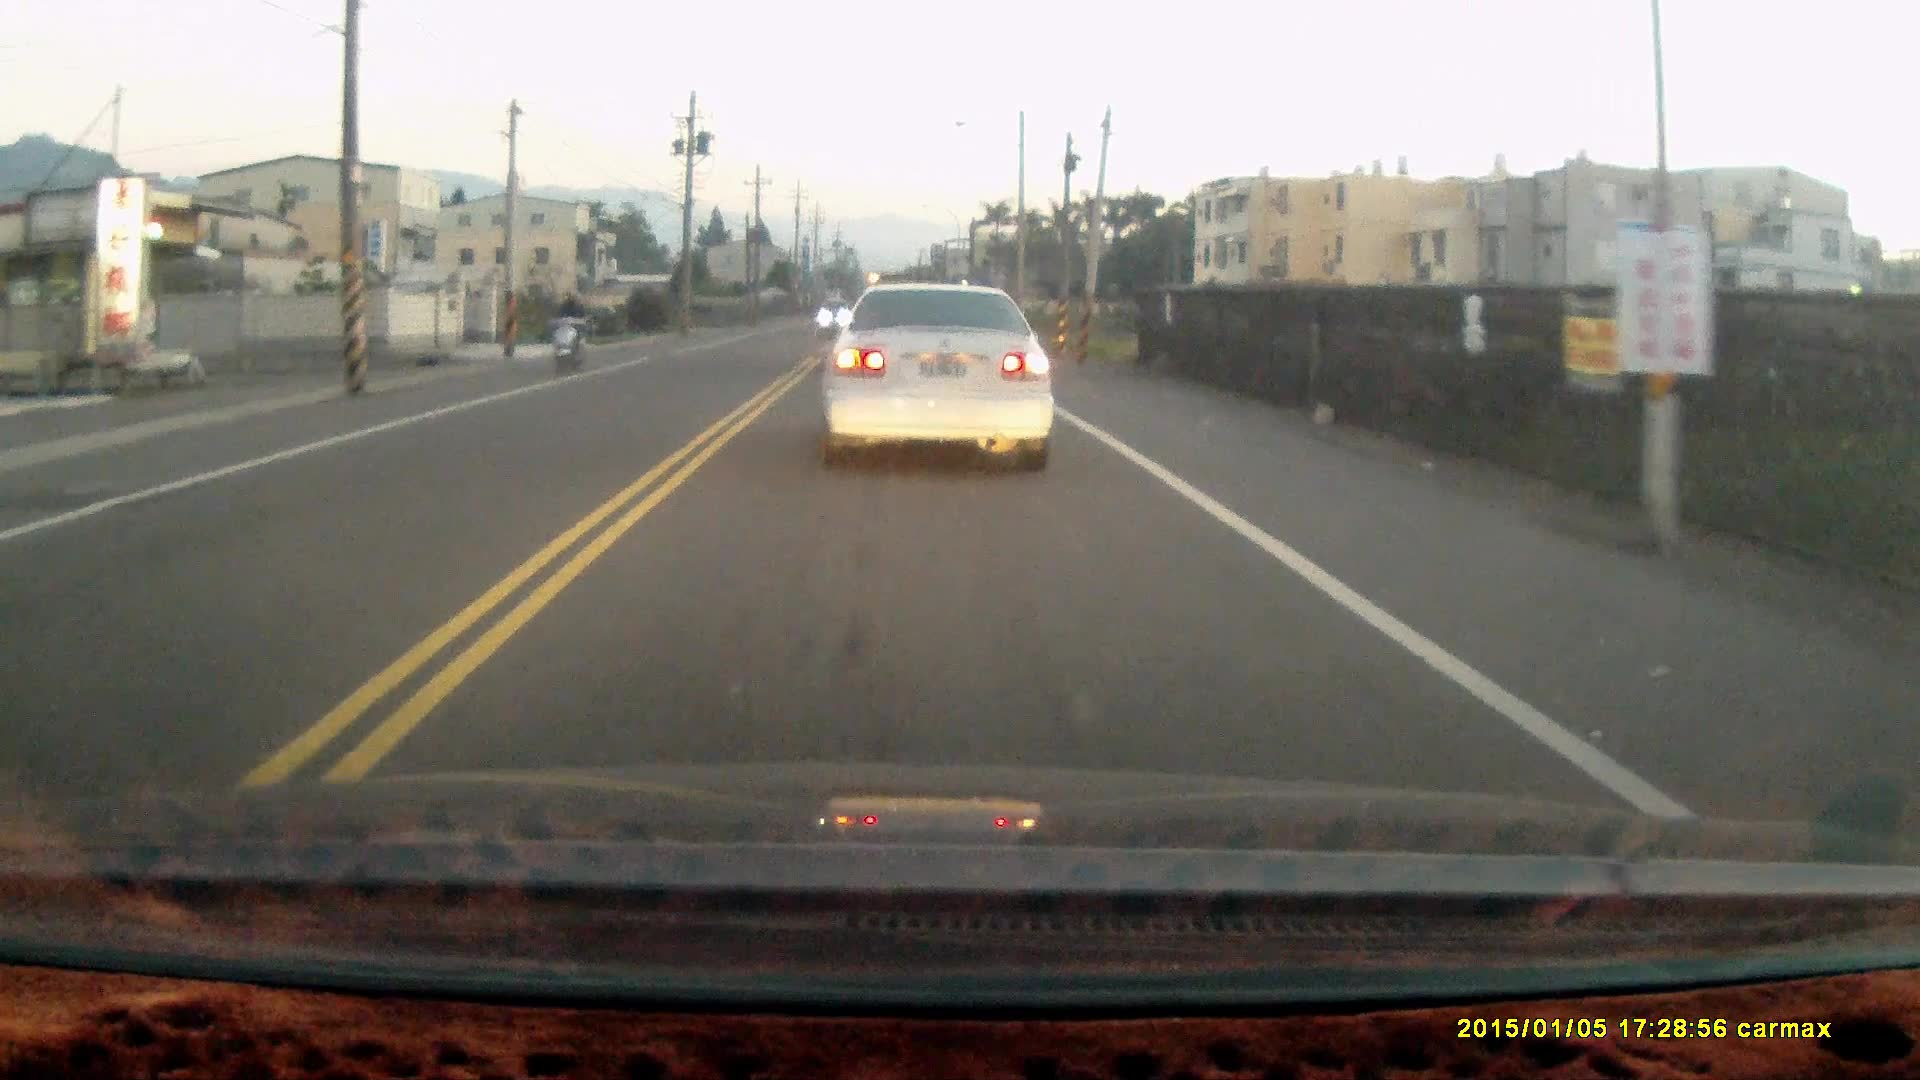rider: (548, 284, 588, 378)
vehicle: (821, 273, 1063, 468)
